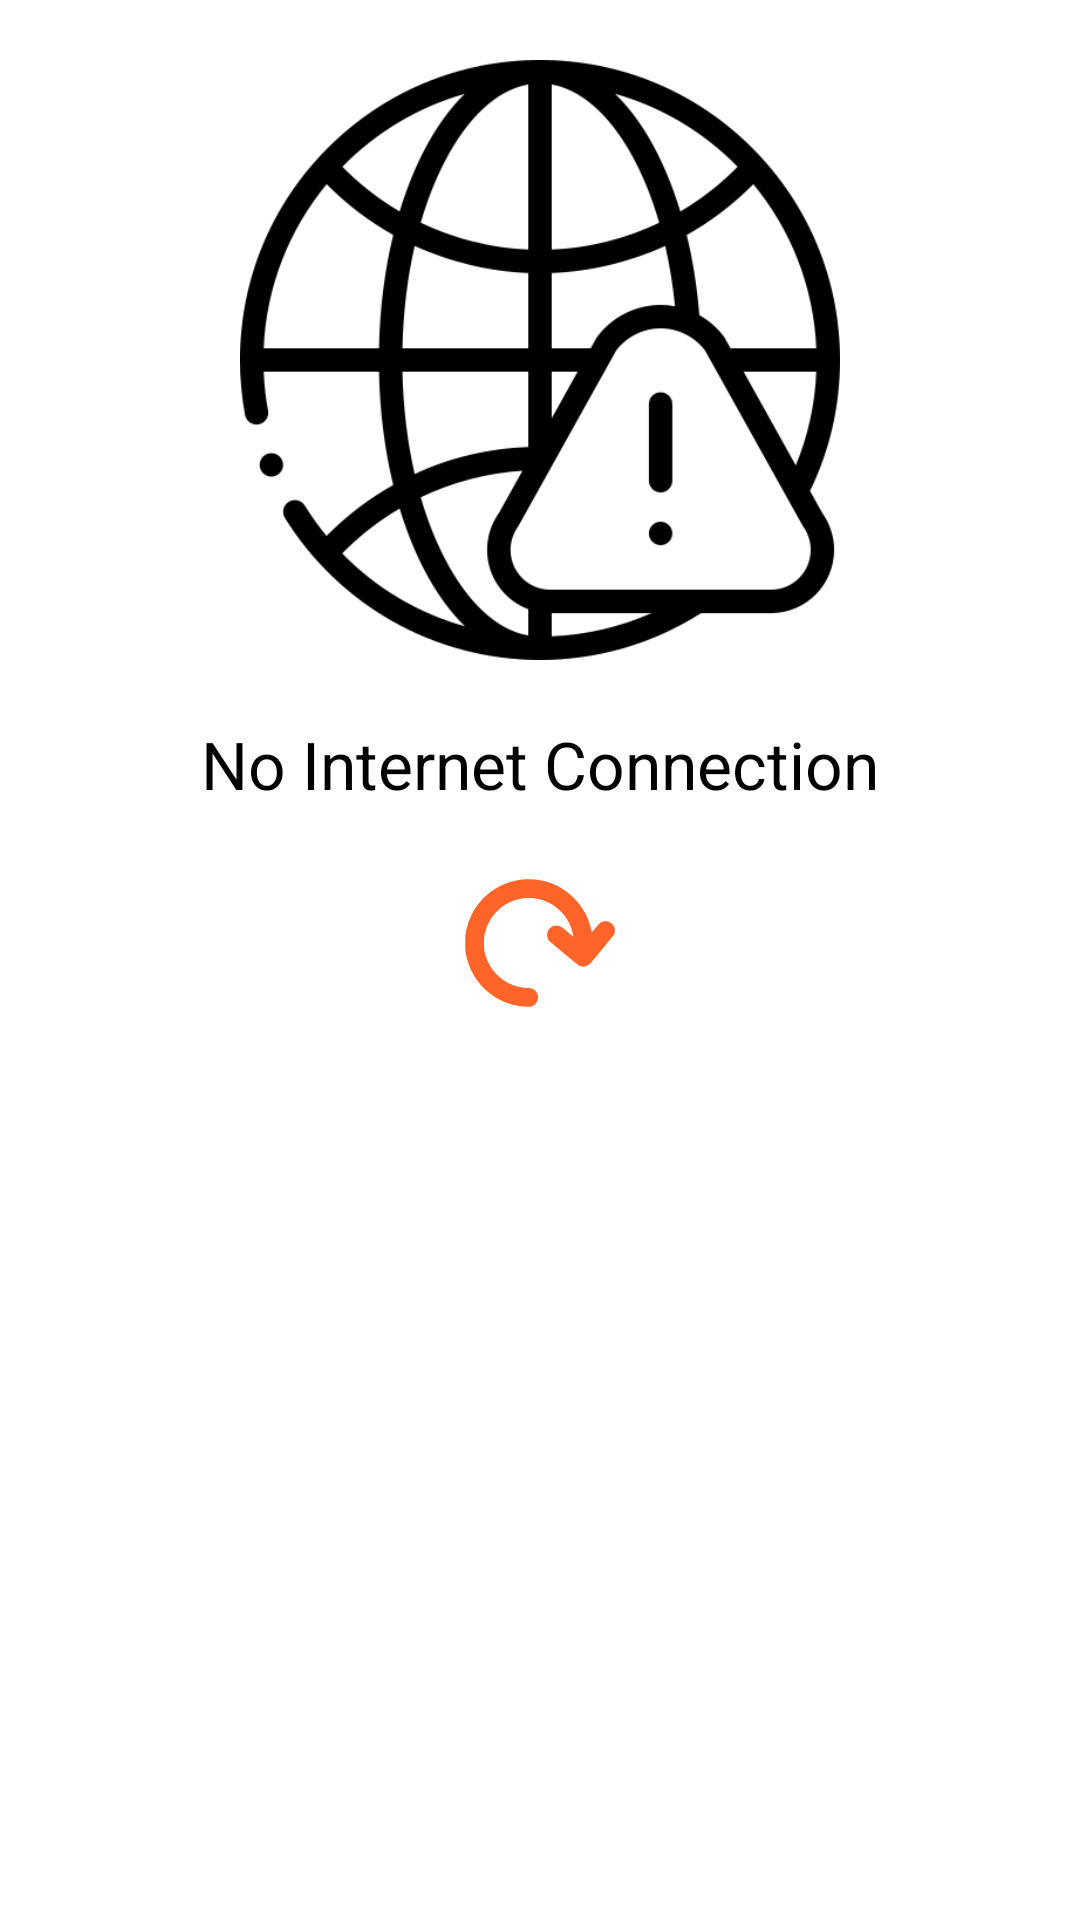

Icon click points for this 1080x1920 phone screenshot, format (x,y):
retry: (540,943)
